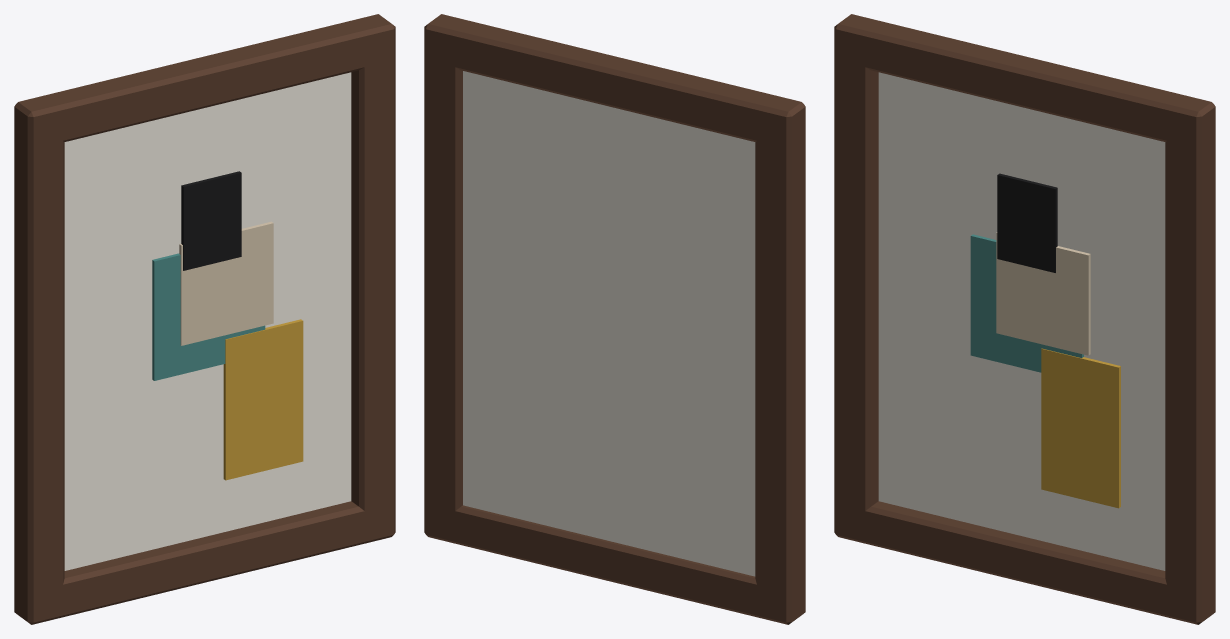
The model's file is i_pic_5.glb.
The picture shows the model from 3 angles, left to right: view 1: azimuth 30°, elevation 25°; view 2: azimuth 150°, elevation 25°; view 3: azimuth 330°, elevation 25°; orthographic projection.
Parts seen in each view (by area): view 1: o.004, o.002, o.003, o.001, o, o.006, o.007, o.008, o.005; view 2: o.004, o.002, o.003, o.001, o; view 3: o.004, o.003, o.002, o.001, o, o.006, o.007, o.008, o.005.
Part boxes in pixels (x1,y1,x2,y2): o.004: (64, 72, 351, 570); o.002: (14, 95, 64, 624); o.003: (349, 14, 395, 531); o.001: (14, 21, 395, 147); o: (14, 501, 395, 624); o.006: (223, 319, 303, 480); o.007: (179, 221, 273, 345); o.008: (181, 171, 241, 270); o.005: (152, 253, 265, 380); o.004: (463, 71, 755, 576); o.002: (755, 95, 805, 624); o.003: (424, 14, 470, 532); o.001: (424, 21, 805, 147); o: (424, 502, 805, 617); o.004: (878, 72, 1165, 570); o.003: (1165, 95, 1215, 624); o.002: (834, 14, 880, 533); o.001: (834, 21, 1215, 147); o: (834, 501, 1215, 617); o.006: (1041, 348, 1120, 508); o.007: (996, 232, 1090, 355); o.008: (997, 173, 1057, 272); o.005: (970, 234, 1083, 372).
Bounding box in the file's own units: 0.3 × 0.4 × 0.025.
